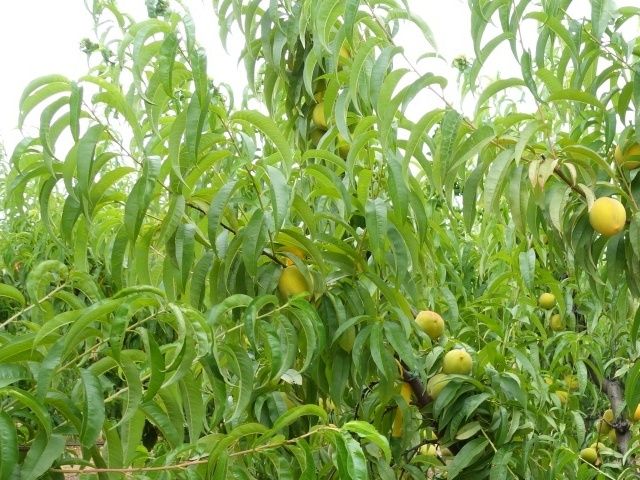peach: (587, 195, 631, 239), (276, 263, 315, 305), (439, 347, 475, 382), (411, 308, 447, 338), (422, 372, 456, 401), (307, 99, 332, 132), (305, 122, 330, 146), (578, 445, 599, 470), (536, 290, 558, 312), (547, 310, 565, 334), (592, 416, 611, 436), (602, 405, 619, 423)
